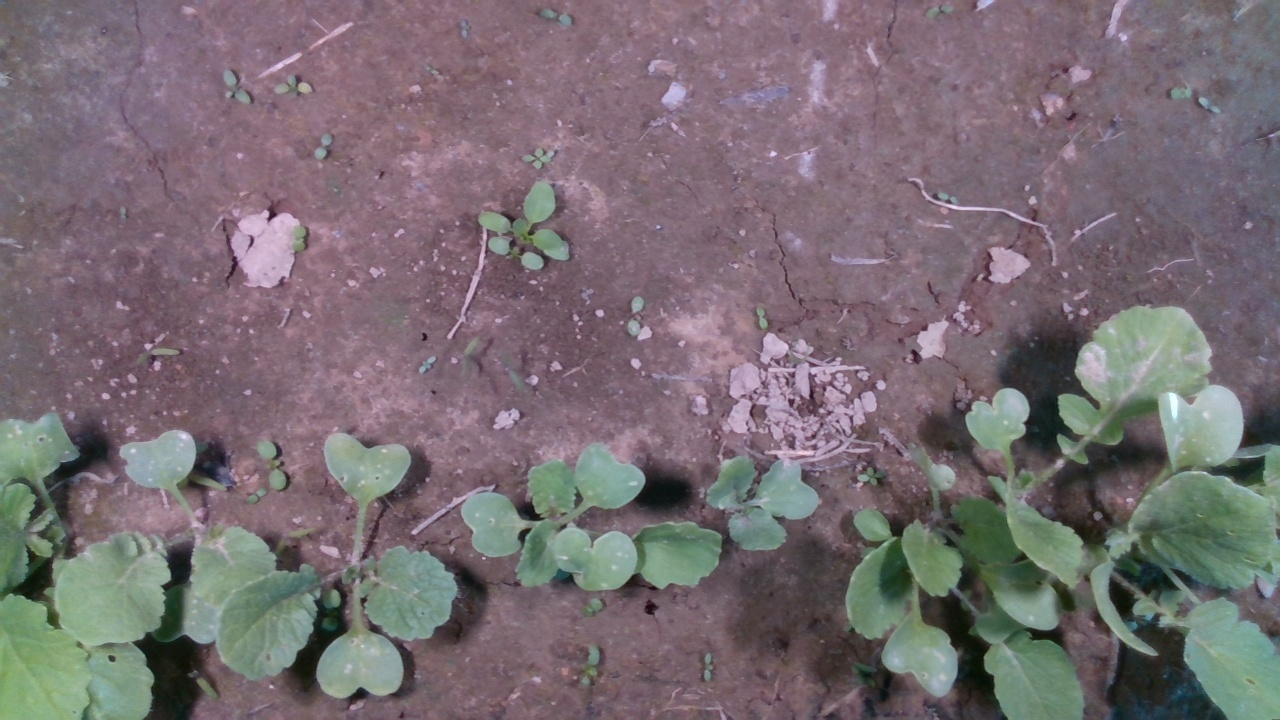weed: (257, 440, 288, 491), (128, 347, 183, 370), (221, 69, 253, 106), (578, 639, 600, 688), (273, 72, 315, 97), (626, 295, 645, 338), (535, 7, 575, 27), (520, 146, 551, 169), (857, 465, 887, 486), (1198, 94, 1226, 116), (314, 133, 333, 161), (292, 224, 308, 252), (245, 485, 267, 505), (582, 596, 602, 616), (703, 650, 714, 683), (755, 306, 769, 330), (1169, 85, 1193, 99), (935, 192, 958, 204), (460, 18, 473, 38)
